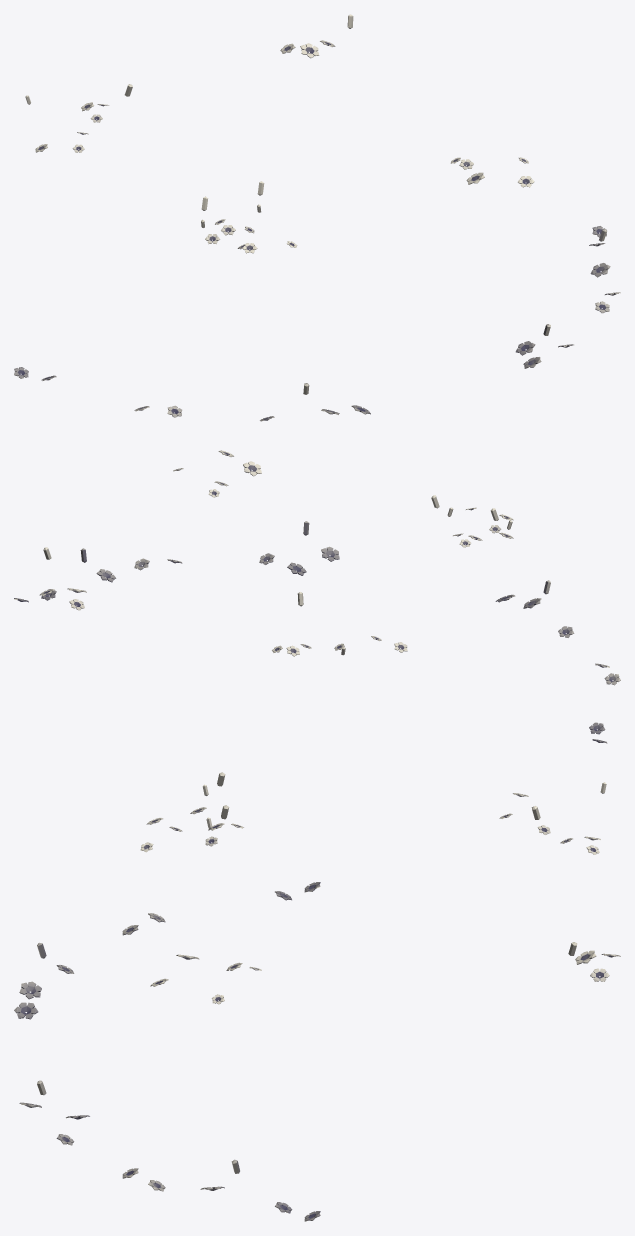
File: Plant_03.FBX
3 renders of one model, top to bottom at view 1: azimuth 30°, elevation 25°; view 2: azimuth 150°, elevation 25°; view 3: azimuth 270°, elevation 25°, orthographic. The views are drawn at different scales.
Parts seen in each view (by area): view 1: Plant_03; view 2: Plant_03; view 3: Plant_03.
Boxes of the visible parts, bbox=[...] form: Plant_03: bbox=[14, 14, 620, 421]; Plant_03: bbox=[14, 450, 620, 743]; Plant_03: bbox=[14, 772, 620, 1221].
Size of the model in its own units: 24.95 by 7.01 by 18.96.
